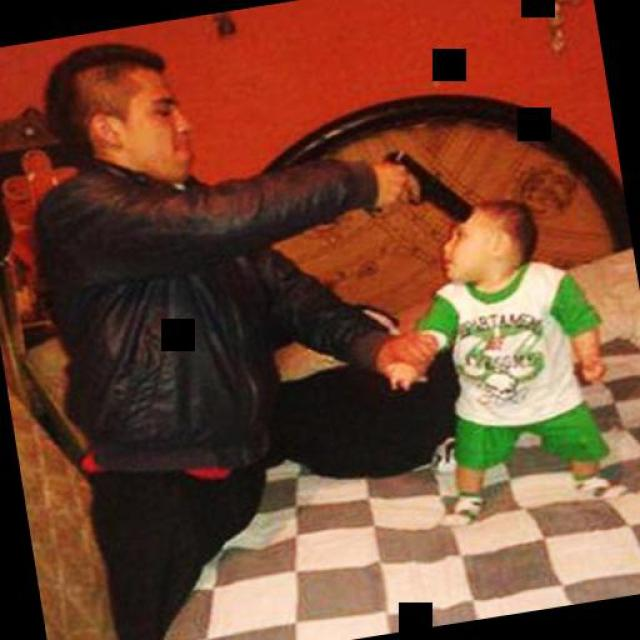gun: (347, 132, 475, 238)
